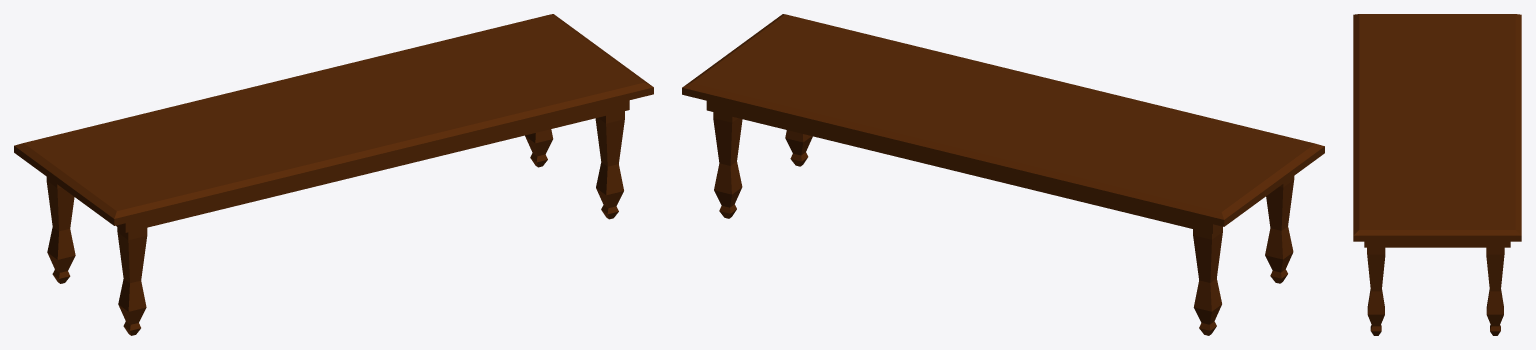
The model's file is dinner table.fbx.
3 views of the same model, side by side, from view 1: azimuth 30°, elevation 25°; view 2: azimuth 150°, elevation 25°; view 3: azimuth 270°, elevation 25° (orthographic). The views are drawn at different scales.
Visible parts, largest first — view 1: pCube9; view 2: pCube9; view 3: pCube9.
Boxes of the visible parts, x1,y1,x2,y2 form: pCube9: [14, 14, 653, 335]; pCube9: [682, 14, 1324, 335]; pCube9: [1353, 14, 1521, 335].
Size of the model in its own units: 17.09 by 4.14 by 5.5.
